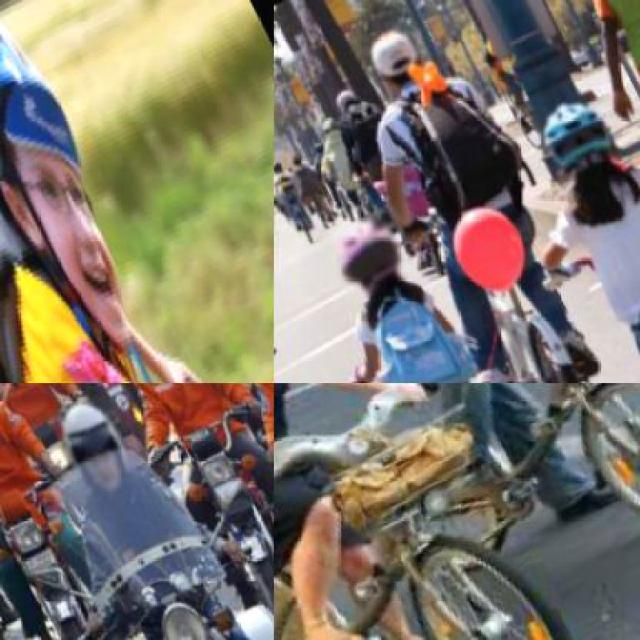With Helmet: (0, 0, 177, 382), (42, 389, 146, 514), (525, 86, 627, 192), (318, 208, 416, 308)
Without Helmet: (358, 22, 437, 102)
